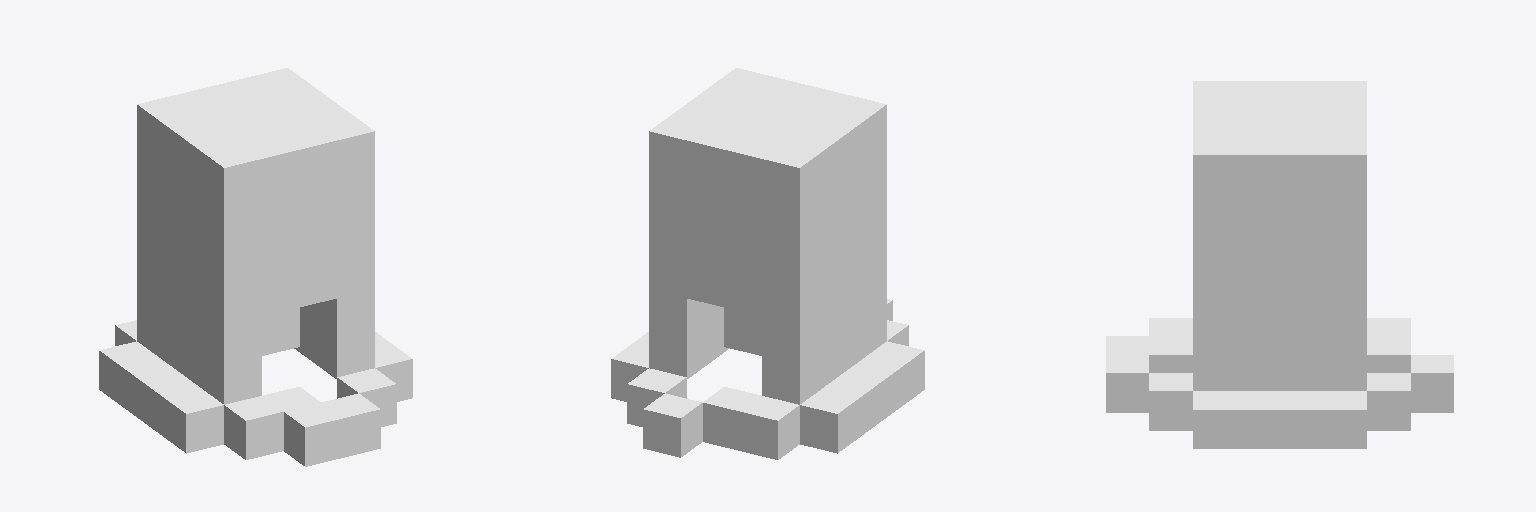
File: Bunny-(Tophat).obj
The picture shows the model from 3 angles: view 1: azimuth 30°, elevation 25°; view 2: azimuth 150°, elevation 25°; view 3: azimuth 270°, elevation 25°; orthographic projection.
Visible parts, largest first — view 1: object 1; view 2: object 1; view 3: object 1.
Part boxes in pixels (bbox=[...]): object 1: bbox=[99, 68, 412, 466]; object 1: bbox=[611, 68, 924, 459]; object 1: bbox=[1106, 81, 1453, 448].
Size of the model in its own units: 0.6 by 0.7 by 0.8.